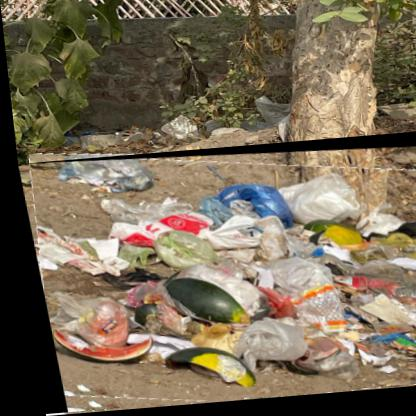Garbage: (15, 138, 416, 416)
